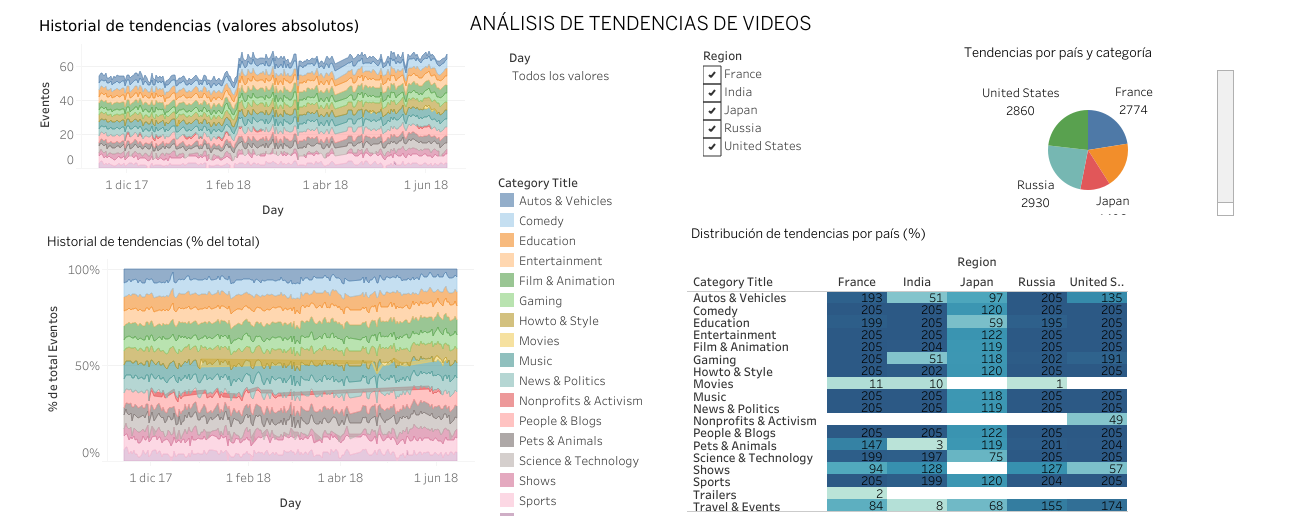

Layout of this report page (visuals, bound fields, positions):
{"tool":"tableau","page":{"name":"Dashboard 1","canvas":[1000,1000],"units":"permille","ordinal":0},"visuals":[{"type":"text","box":[360.9,15.4,296.2,51.4]},{"type":"worksheet","title":"Hoja 1","mark":"Area","rows":["Calculation_0902707133087746"],"cols":["Calculation_0902707132928001"],"box":[27.2,20.6,332.8,402.4]},{"type":"worksheet","title":"Hoja 4","mark":"Pie","box":[742.1,71.9,211.9,332.2]},{"type":"filter","title":"Hoja 1","param":"[federated.17ilxl81emiv3315e0qcn197lc2z].[none:region:nk]","box":[543.8,83.9,136.2,236.3]},{"type":"filter","title":"Hoja 1","param":"[federated.17ilxl81emiv3315e0qcn197lc2z].[none:Calculation_0902707132928001:qk]","box":[394,87.3,136.2,104.5]},{"type":"legend","title":"Hoja 1","param":"[federated.17ilxl81emiv3315e0qcn197lc2z].[none:category_title:nk]","box":[384.7,320.2,127.7,647.3]},{"type":"worksheet","title":"Hoja 3","mark":"Square","rows":["category_title"],"cols":["region"],"box":[531.1,411,419.6,551.4]},{"type":"worksheet","title":"Hoja 1 (2)","mark":"Area","cols":["Calculation_0902707132928001"],"box":[33.4,426.4,333,546.2]}]}

Visuals, with their boxes on the dashboard's canvas, which has no fixed pixel size, in thousandths of its width and height (x1, y1, x2, y2). These are canvas units, not pixel positions in the 1292x532 screenshot, which may show the page scaled, cropped or inside an application window:
text: detection(361, 15, 657, 67)
"Hoja 1" worksheet (Area marks): detection(27, 21, 360, 423)
"Hoja 4" worksheet (Pie marks): detection(742, 72, 954, 404)
"Hoja 1" filter: detection(544, 84, 680, 320)
"Hoja 1" filter: detection(394, 87, 530, 192)
"Hoja 1" legend: detection(385, 320, 512, 968)
"Hoja 3" worksheet (Square marks): detection(531, 411, 951, 962)
"Hoja 1 (2)" worksheet (Area marks): detection(33, 426, 366, 973)
